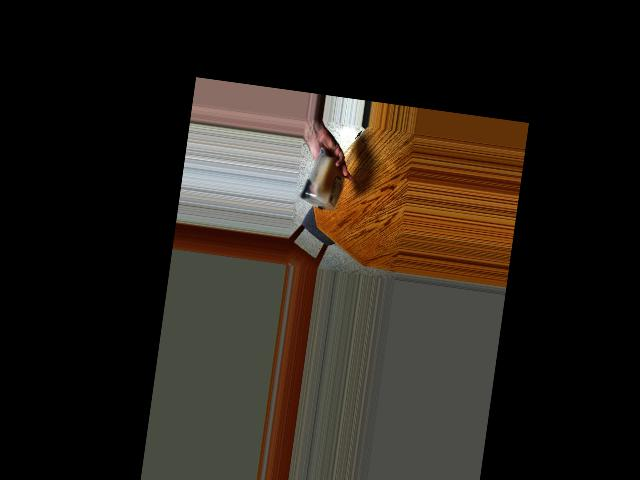cheese: (299, 151, 350, 214)
